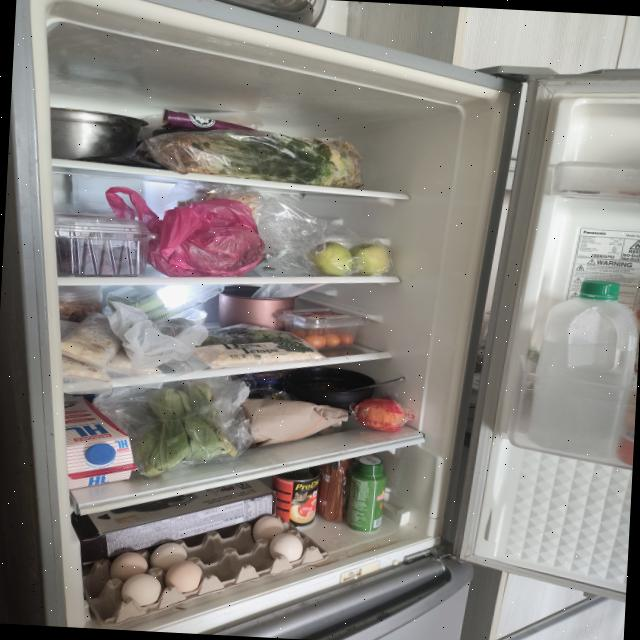apple: (306, 240, 392, 280)
egg: (80, 505, 331, 638)
grape: (50, 212, 158, 281)
leafy_greens: (146, 127, 364, 189), (202, 324, 304, 352)
orange: (353, 396, 406, 434)
pakchoy: (134, 379, 240, 482)
tempeh: (57, 310, 167, 386), (193, 336, 326, 376)
unknown_bag: (102, 185, 268, 282)
